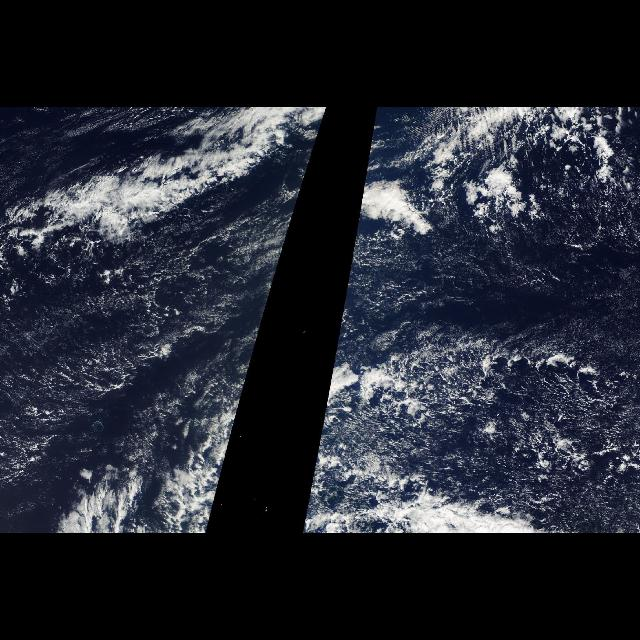Fish: (448, 107, 624, 165)
Gravel: (384, 140, 640, 508)
Sugar: (359, 229, 639, 495), (23, 274, 216, 466)
